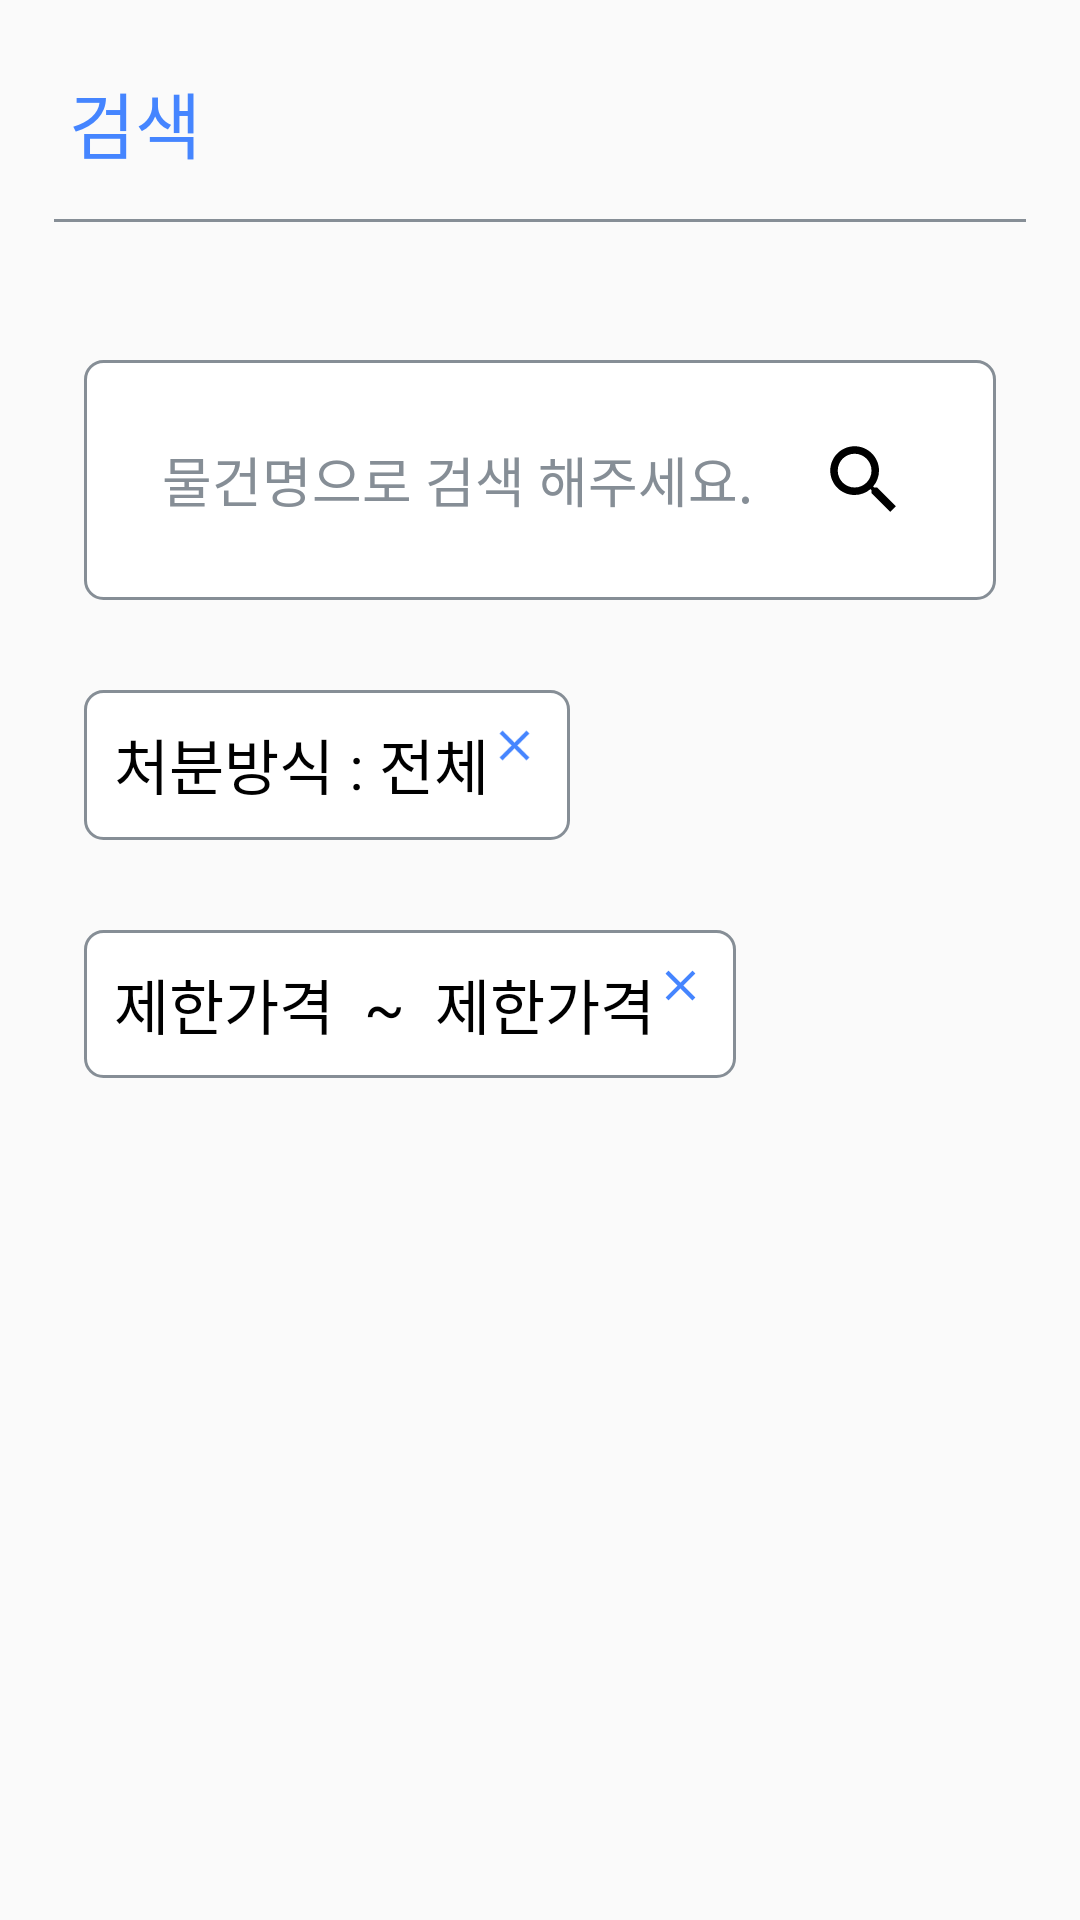

Point at icon controls on the screen. Image size 1080×1920, points as [x,y].
close: [514,745], [680,986]
search: [863,479]
